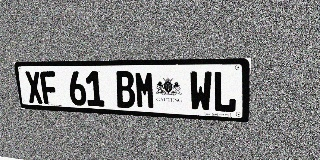1: (84, 71, 105, 107)
6: (67, 71, 87, 106)
B: (115, 71, 136, 108)
F: (39, 71, 59, 104)
L: (213, 71, 237, 113)
M: (134, 71, 156, 109)
W: (189, 71, 212, 112)
X: (24, 71, 44, 104)
